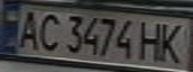3: (60, 12, 84, 55)
4: (112, 16, 142, 61), (78, 14, 100, 56)
7: (97, 15, 118, 57)
A: (12, 8, 45, 52)
C: (33, 10, 63, 53)
H: (136, 18, 169, 62)
K: (154, 20, 190, 64)
